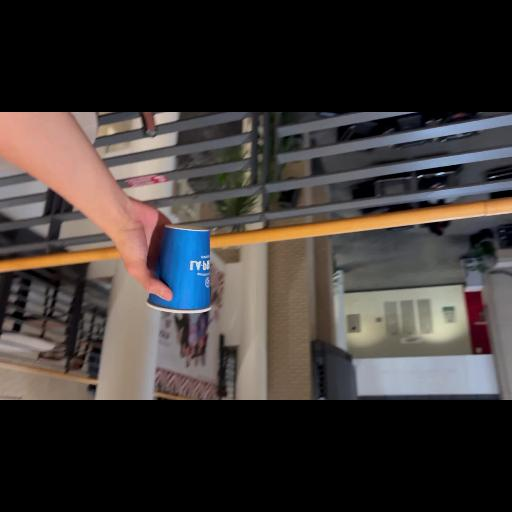lp_paper_cup: (142, 220, 212, 316)
